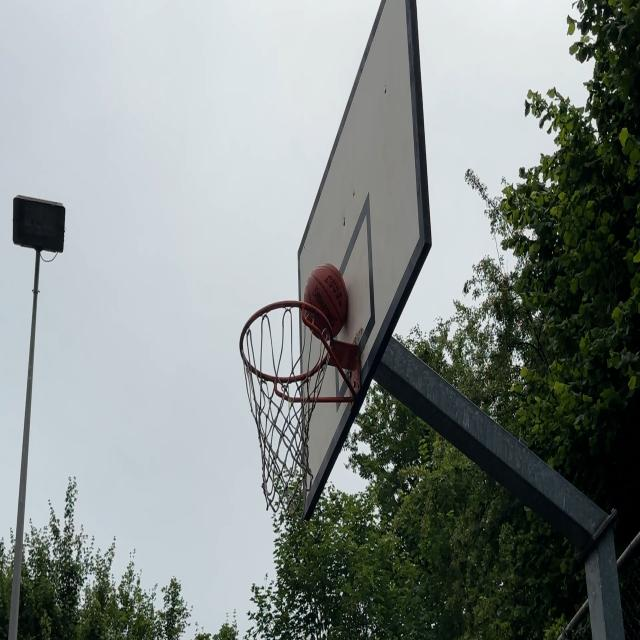rebound_hit: (304, 266, 352, 338)
